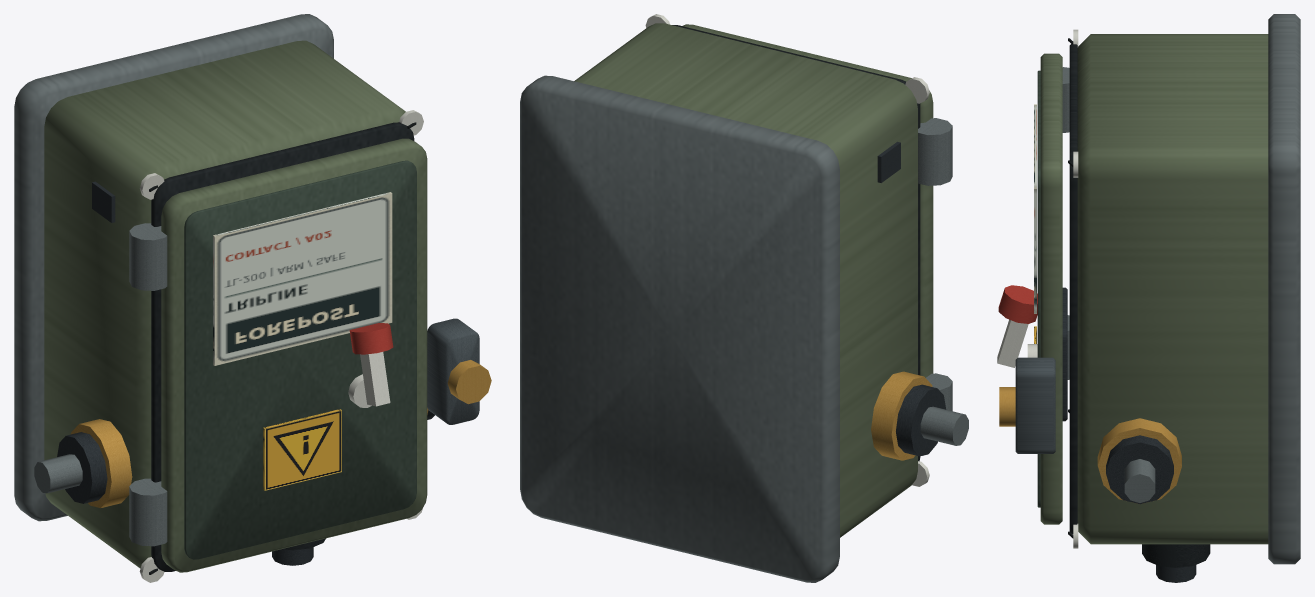
Rendered from PZ_Tripwire_Alarm_Box.glb.
The picture shows the model from 3 angles, left to right: view 1: azimuth 30°, elevation 25°; view 2: azimuth 150°, elevation 25°; view 3: azimuth 270°, elevation 25°; orthographic projection. The views are drawn at different scales.
Visible parts, largest first — view 1: TRIPLINE_Enclosure, TRIPLINE_DoorInset, TRIPLINE_BrandPanel, TRIPLINE_WallPlate, TRIPLINE_FrontDoor, TRIPLINE_CaseGasket, TRIPLINE_CautionDecal, TRIPLINE_SideLatch, TRIPLINE_GlandCollar_Left, TRIPLINE_HingeKnuckle_-0.068, TRIPLINE_HingeKnuckle_0.068, TRIPLINE_CableGland_Left (+6 smaller); view 2: TRIPLINE_WallPlate, TRIPLINE_Enclosure, TRIPLINE_FrontDoor, TRIPLINE_GlandCollar_Left, TRIPLINE_HingeKnuckle_0.068, TRIPLINE_CableGland_Left, TRIPLINE_Eyelet_Left, TRIPLINE_CaseGasket, TRIPLINE_TamperPlunger; view 3: TRIPLINE_Enclosure, TRIPLINE_WallPlate, TRIPLINE_FrontDoor, TRIPLINE_CaseGasket, TRIPLINE_SideLatch, TRIPLINE_CableGland_Right, TRIPLINE_GlandCollar_Right, TRIPLINE_BottomCableSeal, TRIPLINE_DoorInset, TRIPLINE_Eyelet_Right, TRIPLINE_SwitchKnob, TRIPLINE_SwitchLever (+5 smaller).
Part boxes in pixels (x1,y1,x2,y2): TRIPLINE_Enclosure: (44,40,405,568); TRIPLINE_DoorInset: (184,160,416,559); TRIPLINE_BrandPanel: (213,192,392,365); TRIPLINE_WallPlate: (14,14,333,521); TRIPLINE_FrontDoor: (161,138,427,572); TRIPLINE_CaseGasket: (151,122,414,571); TRIPLINE_CautionDecal: (263,409,341,490); TRIPLINE_SideLatch: (427,318,479,424); TRIPLINE_GlandCollar_Left: (70,419,132,508); TRIPLINE_HingeKnuckle_-0.068: (129,478,167,546); TRIPLINE_HingeKnuckle_0.068: (129,223,167,290); TRIPLINE_CableGland_Left: (57,432,107,503); TRIPLINE_WallPlate: (520,75,839,582); TRIPLINE_Enclosure: (574,23,917,537); TRIPLINE_FrontDoor: (682,24,933,377); TRIPLINE_GlandCollar_Left: (871,371,932,460); TRIPLINE_HingeKnuckle_0.068: (918,118,952,185); TRIPLINE_CableGland_Left: (896,384,946,456); TRIPLINE_Eyelet_Left: (920,406,968,445); TRIPLINE_CaseGasket: (672,25,920,461); TRIPLINE_TamperPlunger: (877,141,900,182); TRIPLINE_Enclosure: (1077,34,1268,544); TRIPLINE_WallPlate: (1268,14,1300,564); TRIPLINE_FrontDoor: (1040,53,1062,524); TRIPLINE_CaseGasket: (1069,44,1077,534); TRIPLINE_SideLatch: (1015,357,1055,453); TRIPLINE_CableGland_Right: (1106,435,1173,504); TRIPLINE_GlandCollar_Right: (1097,418,1181,499); TRIPLINE_BottomCableSeal: (1142,544,1210,567); TRIPLINE_DoorInset: (1037,70,1040,507); TRIPLINE_Eyelet_Right: (1124,459,1155,502); TRIPLINE_SwitchKnob: (998,285,1037,323); TRIPLINE_SwitchLever: (997,319,1028,367).
Size of the model in its own units: 0.23 by 0.256 by 0.151.
Materials: 2 (2 with a texture image).
